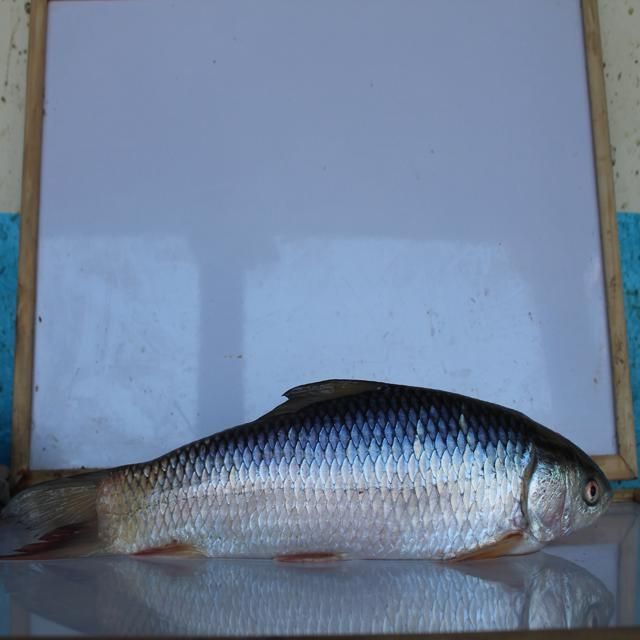Mori: (13, 375, 609, 569)
